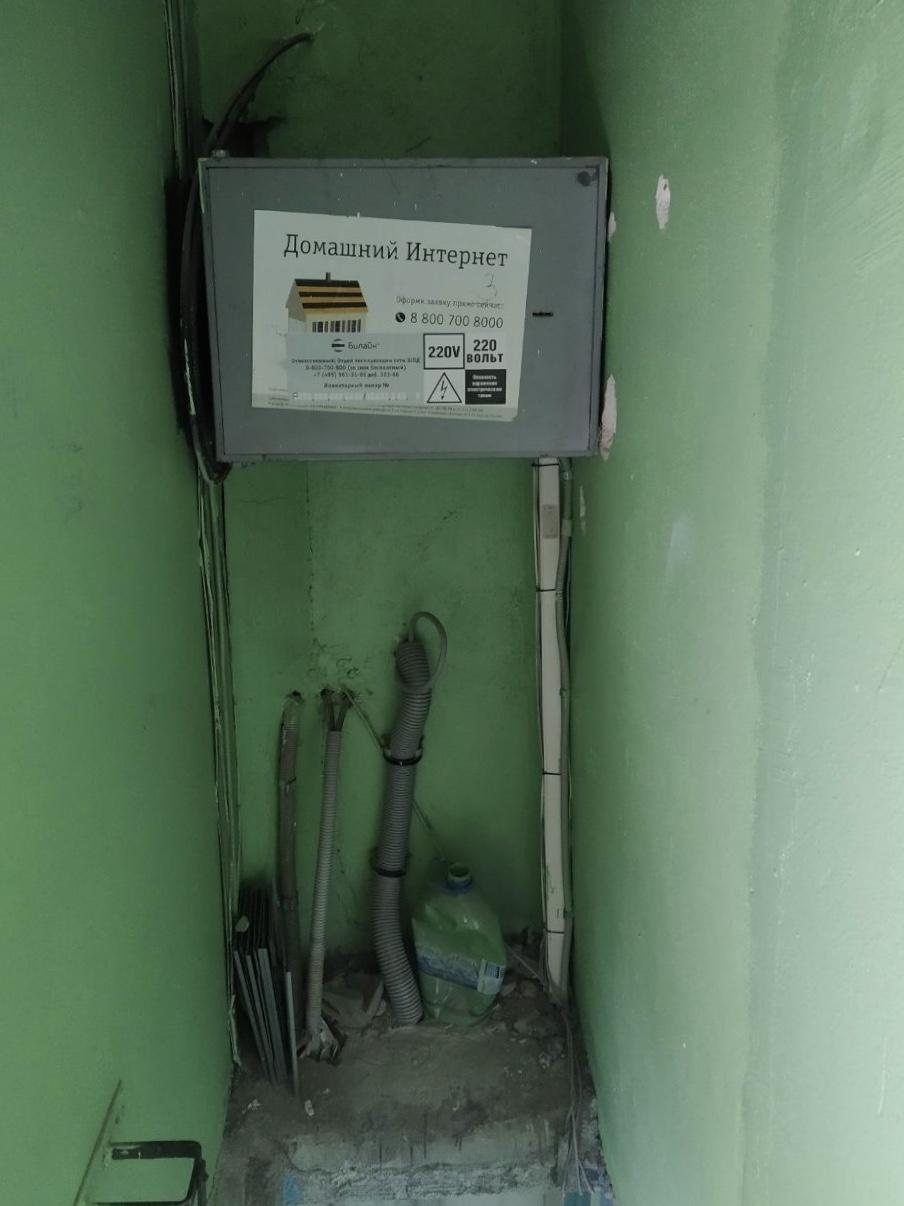shta-9m: (194, 155, 610, 465)
